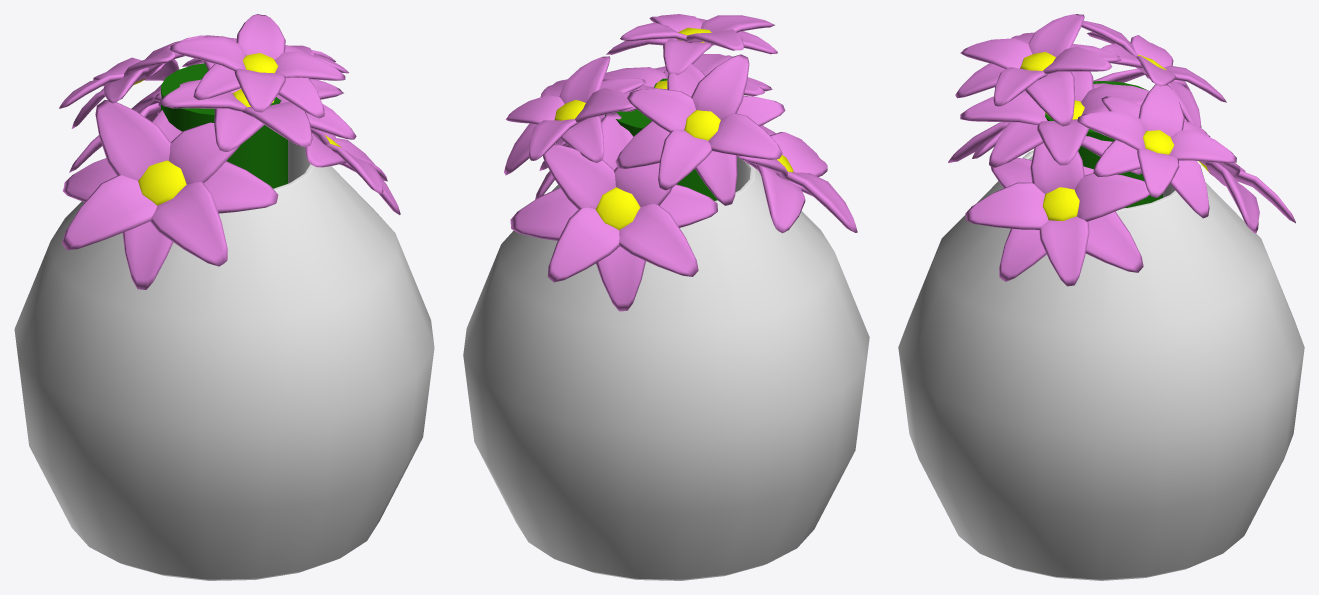
Rendered from DiningTableFlowers.fbx.
3 views of the same model, side by side, from view 1: azimuth 30°, elevation 25°; view 2: azimuth 150°, elevation 25°; view 3: azimuth 270°, elevation 25° (orthographic). The views are drawn at different scales.
Parts seen in each view (by area): view 1: pCube741; view 2: pCube741; view 3: pCube741.
Part boxes in pixels (box(x1,y1,x2,y2)): pCube741: box(14, 14, 434, 580); pCube741: box(463, 14, 869, 580); pCube741: box(898, 14, 1304, 580).
Bounding box in the file's own units: 0.3698 × 0.4817 × 0.3698.
